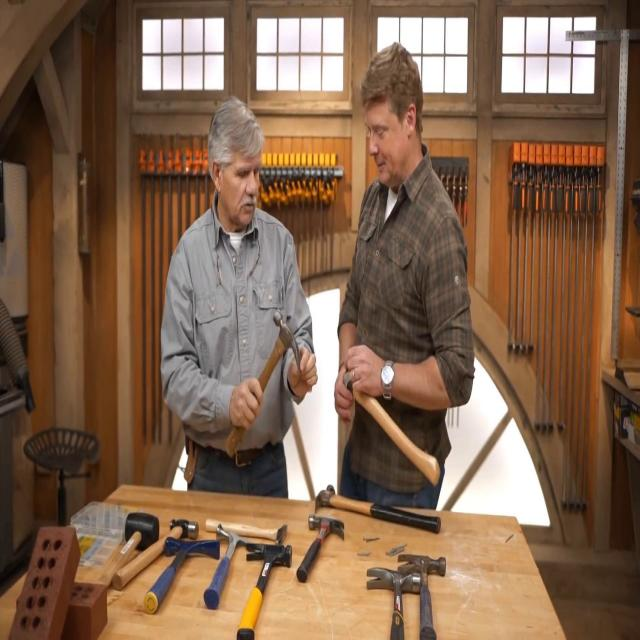hammer: (226, 311, 302, 459), (343, 371, 440, 486), (314, 483, 441, 535), (112, 518, 198, 590), (144, 536, 220, 614), (237, 542, 292, 640), (91, 512, 160, 587), (397, 553, 446, 640), (366, 565, 421, 640), (203, 523, 247, 611), (296, 513, 344, 583), (205, 517, 288, 545)
